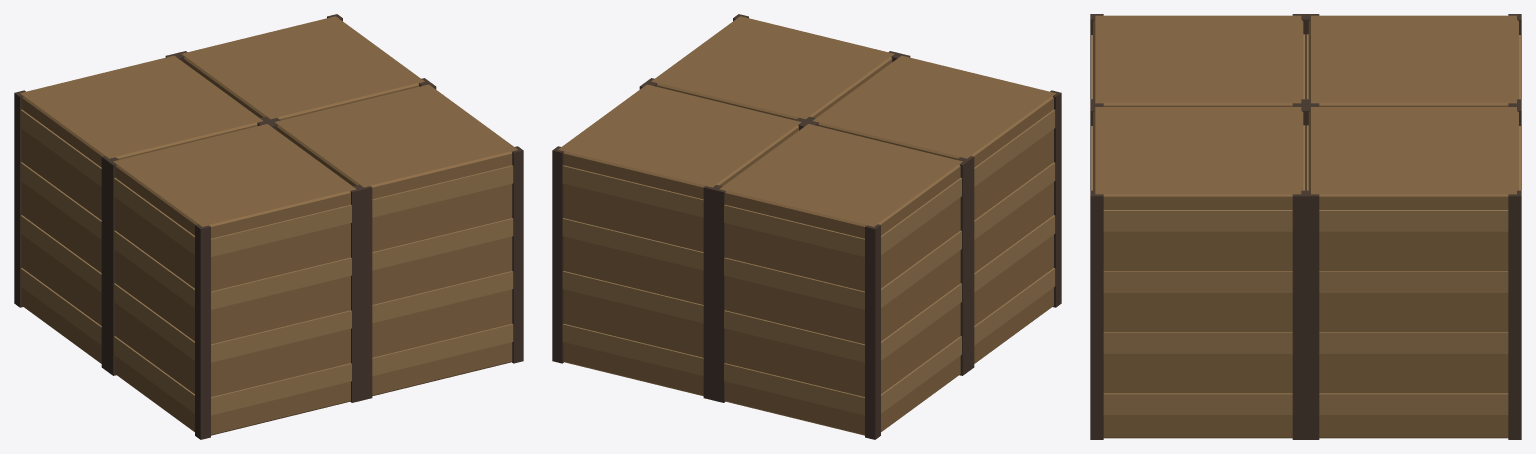
File: crates_a.glb
3 renders of one model, left to right at view 1: azimuth 30°, elevation 25°; view 2: azimuth 150°, elevation 25°; view 3: azimuth 270°, elevation 25°, orthographic. The views are drawn at different scales.
Visible parts, largest first — view 1: crates_a; view 2: crates_a; view 3: crates_a.
Boxes of the visible parts, x1,y1,x2,y2 form: crates_a: (14, 14, 523, 439); crates_a: (552, 14, 1061, 439); crates_a: (1090, 14, 1521, 439).
Bounding box in the file's own units: 1.6 × 1 × 1.6.
